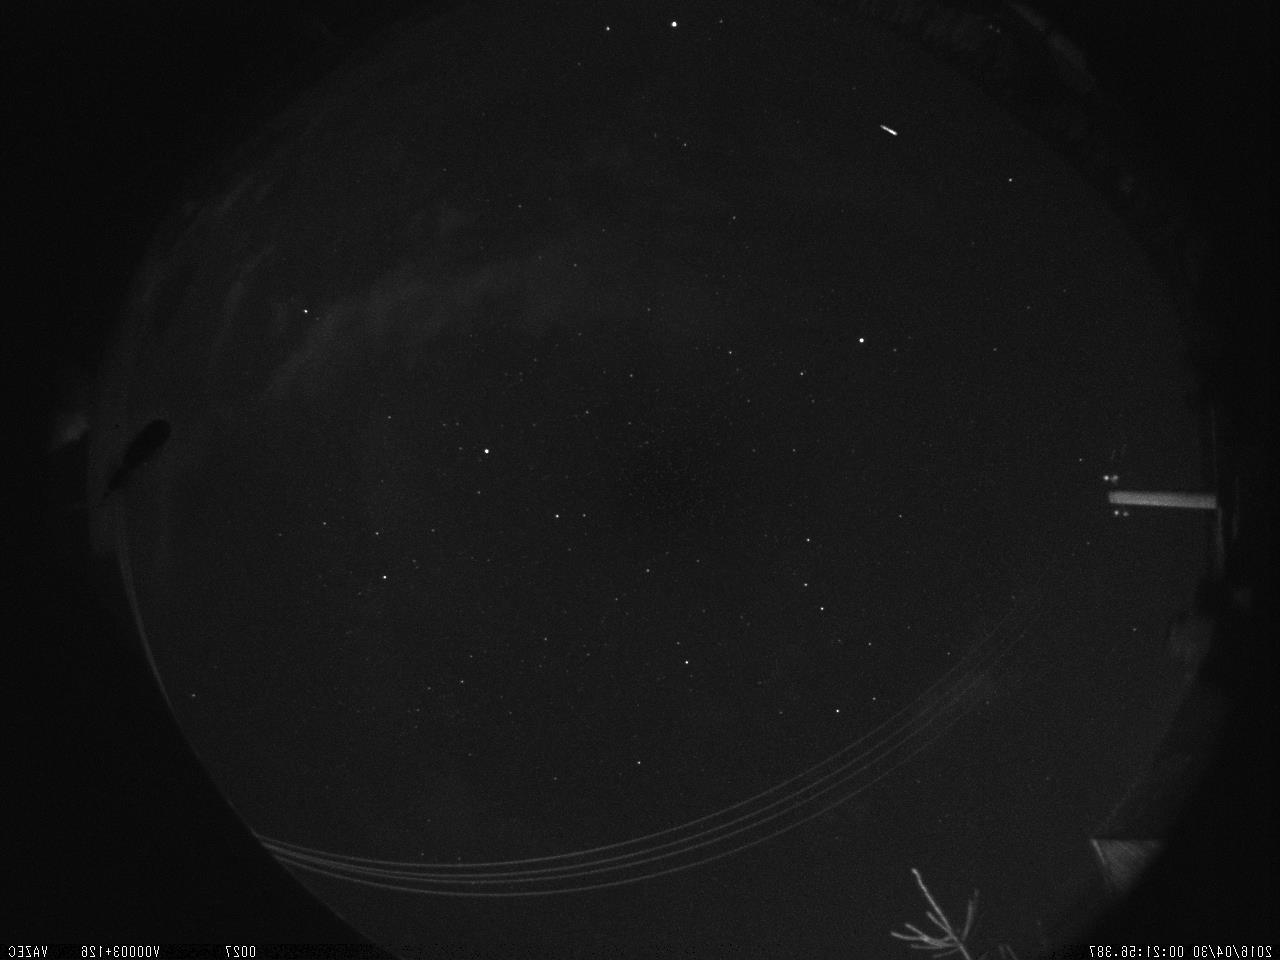meteor: (867, 116, 915, 144)
